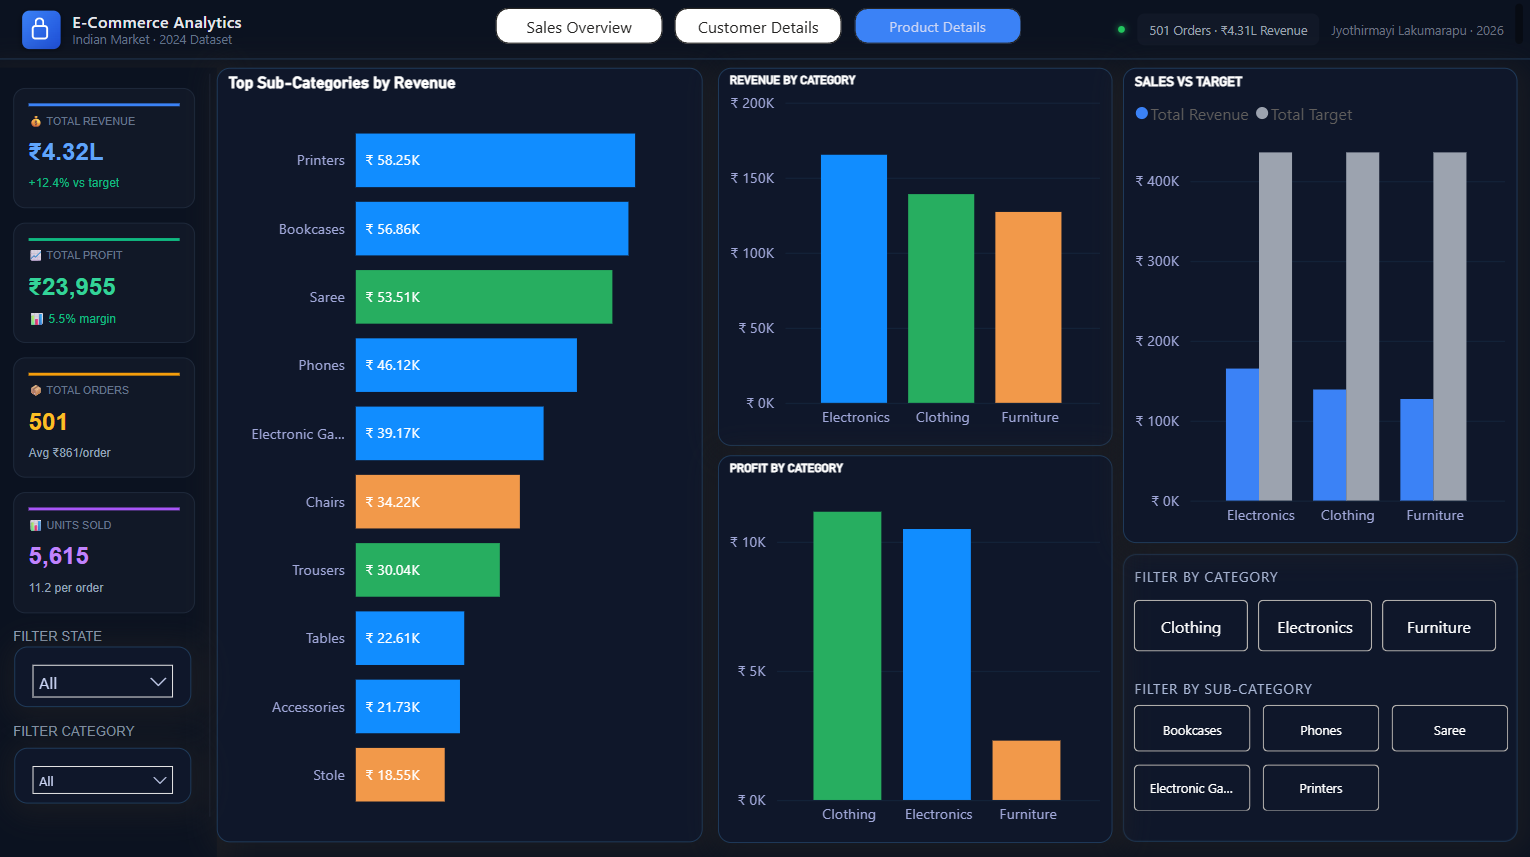

This screenshot's page, from the dashboard's own definition file:
{"tool":"powerbi","page":{"name":"Product Details","canvas":[1280,720],"ordinal":2},"visuals":[{"type":"STANDALONEhtmlContent443BE3AD55E043BF878BED274D3A6855","fields":{"content":["List of Orders.Filter_HTML 2"]},"box":[939,466,328,239],"z":0},{"type":"STANDALONEhtmlContent443BE3AD55E043BF878BED274D3A6855","fields":{"content":["List of Orders.Header Pixel Perfect"]},"box":[0,0,1280,54],"z":1000},{"type":"STANDALONEhtmlContent443BE3AD55E043BF878BED274D3A6855","fields":{"content":["List of Orders.Sidebar HTML"]},"box":[0,61,186,659],"z":2000},{"type":"clusteredBarChart","title":"Top Sub-Categories by Revenue","fields":{"Category":["Order Details.Sub-Category"],"Y":["Sum(Order Details.Amount)"]},"box":[186,61,404,644],"z":3000},{"type":"clusteredColumnChart","title":"REVENUE BY CATEGORY","fields":{"Category":["Sales target.Category"],"Y":["Order Details.Total Revenue"]},"box":[603,61,328,314],"z":4000},{"type":"clusteredColumnChart","title":"PROFIT BY CATEGORY","fields":{"Category":["Sales target.Category"],"Y":["Sum(Order Details.Profit)"]},"box":[603,383,328,322],"z":5000},{"type":"clusteredColumnChart","title":"SALES VS TARGET","fields":{"Category":["Order Details.Category"],"Y":["Order Details.Total Revenue","Sales target.Total Target"]},"box":[939,61,328,395],"z":6000},{"type":"slicer","fields":{"Values":["List of Orders.State"]},"box":[18,543,147,50],"z":7000},{"type":"slicer","fields":{"Values":["Sales target.Category"]},"box":[18,627,147,46],"z":8000},{"type":"pageNavigator","box":[418,11,438,30],"z":9000},{"type":"advancedSlicerVisual","fields":{"Values":["Sales target.Category"]},"box":[944,499,313,53],"z":10000},{"type":"advancedSlicerVisual","fields":{"Values":["Order Details.Sub-Category"]},"box":[944,586,323,99],"z":11000}]}

Visuals, with their boxes on the page's 1280x720 design canvas (x1, y1, x2, y2). These are canvas units, not pixel positions in the 1530x857 screenshot, which may show the page scaled, cropped or inside an application window:
STANDALONEhtmlContent443BE3AD55E043BF878BED274D3A6855 - List of Orders.Filter_HTML 2: select_region(939, 466, 1267, 705)
STANDALONEhtmlContent443BE3AD55E043BF878BED274D3A6855 - List of Orders.Header Pixel Perfect: select_region(0, 0, 1280, 54)
STANDALONEhtmlContent443BE3AD55E043BF878BED274D3A6855 - List of Orders.Sidebar HTML: select_region(0, 61, 186, 720)
"Top Sub-Categories by Revenue" clusteredBarChart: select_region(186, 61, 590, 705)
"REVENUE BY CATEGORY" clusteredColumnChart: select_region(603, 61, 931, 375)
"PROFIT BY CATEGORY" clusteredColumnChart: select_region(603, 383, 931, 705)
"SALES VS TARGET" clusteredColumnChart: select_region(939, 61, 1267, 456)
slicer - List of Orders.State: select_region(18, 543, 165, 593)
slicer - Sales target.Category: select_region(18, 627, 165, 673)
pageNavigator: select_region(418, 11, 856, 41)
advancedSlicerVisual - Sales target.Category: select_region(944, 499, 1257, 552)
advancedSlicerVisual - Order Details.Sub-Category: select_region(944, 586, 1267, 685)
